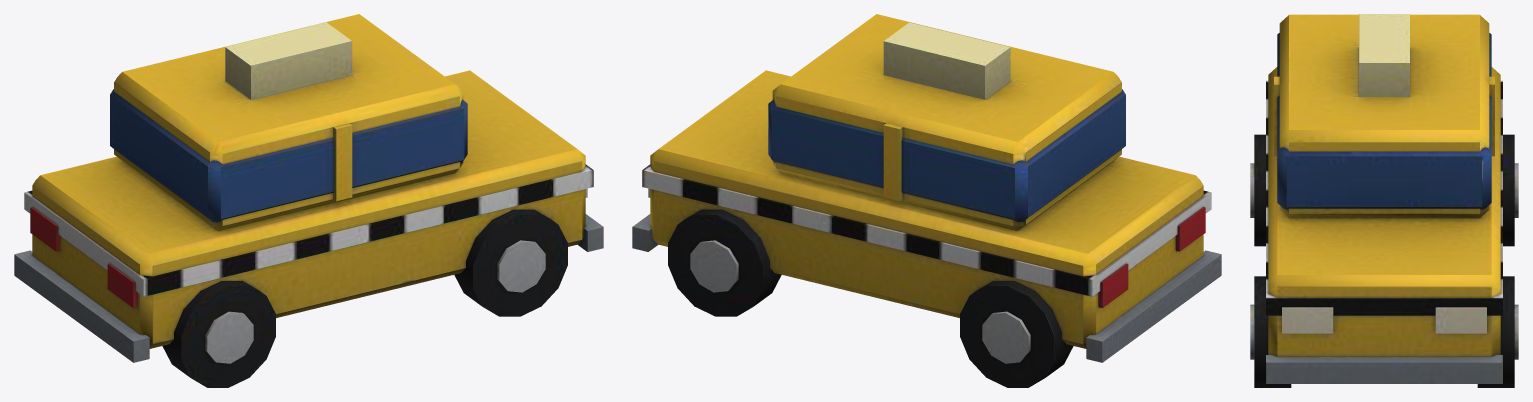
Rendered from taxi.glb.
3 views of the same model, side by side, from view 1: azimuth 30°, elevation 25°; view 2: azimuth 150°, elevation 25°; view 3: azimuth 270°, elevation 25° (orthographic).
Visible parts, largest first — view 1: taxi; view 2: taxi; view 3: taxi.
Boxes of the visible parts, <box> form: taxi: <box>14,14,603,387</box>; taxi: <box>632,14,1221,387</box>; taxi: <box>1250,14,1518,387</box>.
Size of the model in its own units: 2.32 by 1.25 by 1.15.
Materials: 1 (1 with a texture image).
